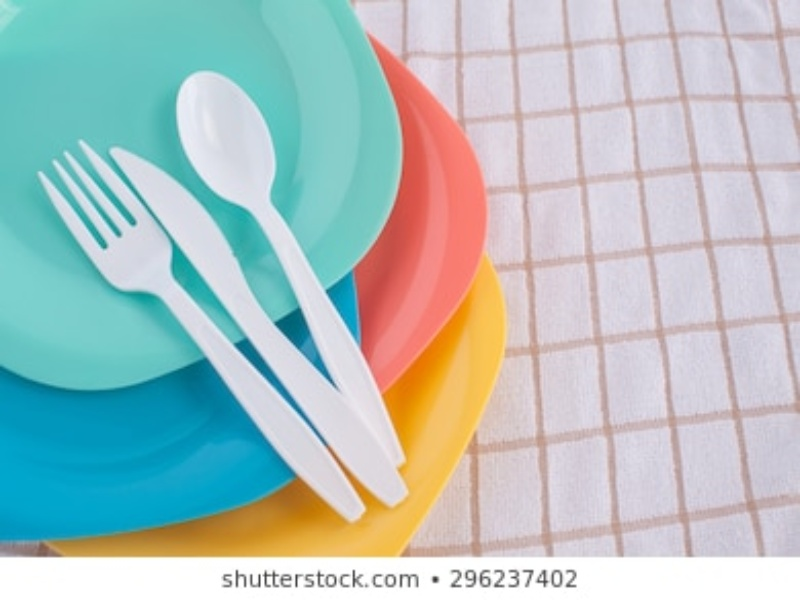plastic-plate: (1, 1, 401, 391), (35, 256, 511, 559), (1, 265, 364, 544), (361, 33, 493, 403)
plastic-silverware: (36, 139, 367, 523), (109, 143, 417, 509), (174, 69, 418, 472)
